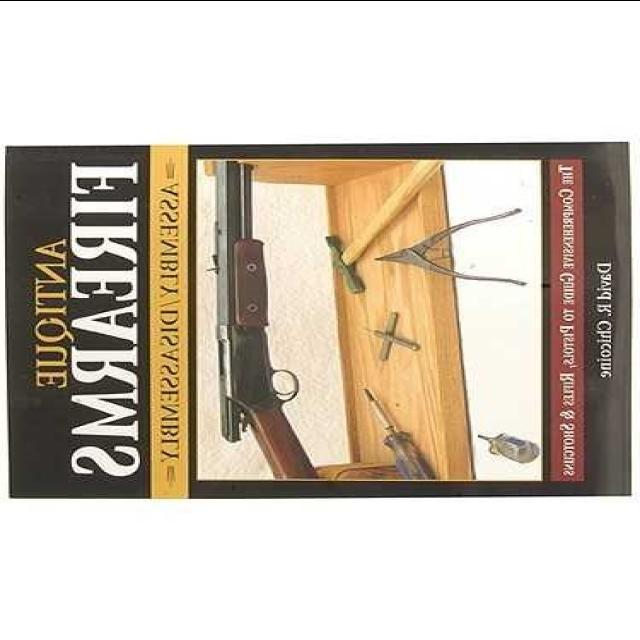heavyweapon: (187, 156, 325, 492)
